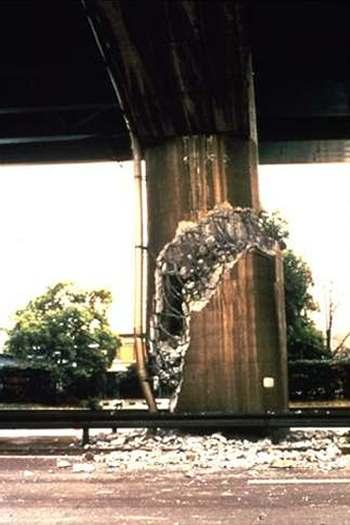spalling: (149, 204, 288, 414)
